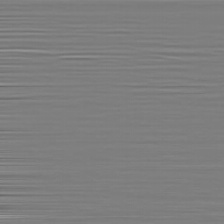cavities: (61, 76, 140, 129)
